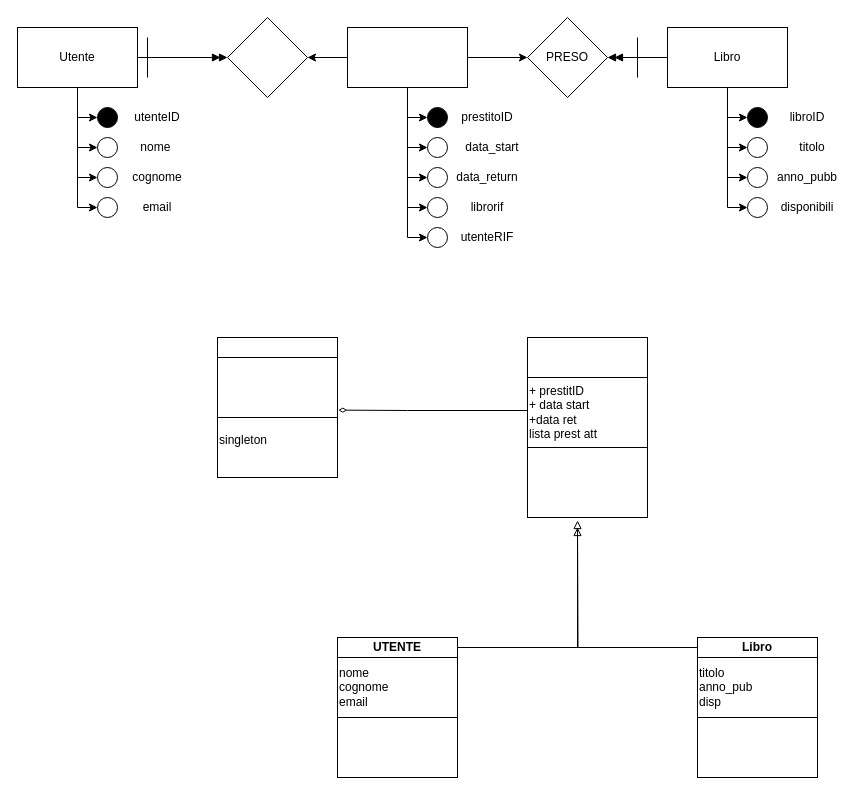
Image size: 855x795. Some labels were removed from this diagram. The shapes that lost their labels are listed below. From the top down, each one's box as (x1, y1, x2, y2) in pixels, then its label:
(226, 16, 308, 98): PRENDE
(346, 26, 468, 88): Prestiti
(216, 336, 338, 358): Biblioteca
(526, 336, 648, 378): Prestito <abstract>
(526, 416, 648, 518): crud stampaprestiti stampa lista libri
